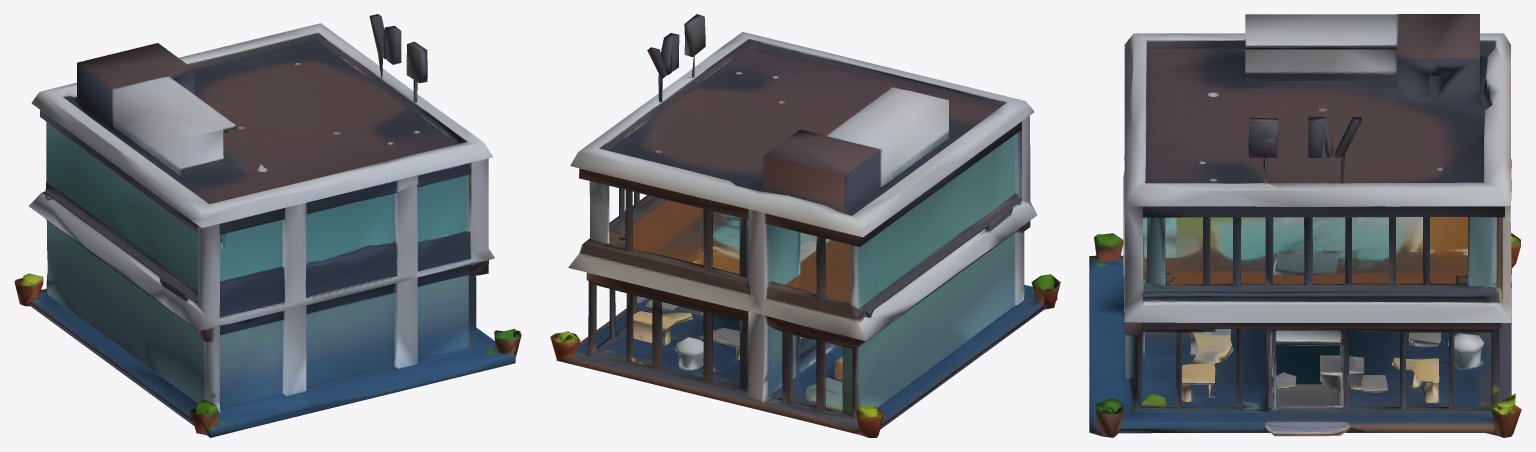
Rendered from SM_Bld_TeamOffice_01.glb.
3 views of the same model, side by side, from view 1: azimuth 30°, elevation 25°; view 2: azimuth 150°, elevation 25°; view 3: azimuth 270°, elevation 25° (orthographic). The views are drawn at different scales.
Parts seen in each view (by area): view 1: tripo_node_4005d87f-17a7-40ec-9292-b5dc4f71ade8; view 2: tripo_node_4005d87f-17a7-40ec-9292-b5dc4f71ade8; view 3: tripo_node_4005d87f-17a7-40ec-9292-b5dc4f71ade8.
Boxes of the visible parts, x1,y1,x2,y2 form: tripo_node_4005d87f-17a7-40ec-9292-b5dc4f71ade8: (14, 14, 521, 437); tripo_node_4005d87f-17a7-40ec-9292-b5dc4f71ade8: (550, 14, 1060, 437); tripo_node_4005d87f-17a7-40ec-9292-b5dc4f71ade8: (1089, 14, 1521, 437).
Size of the model in its own units: 0.9872 by 0.7656 by 0.9928.
1 material, 1 textured.
